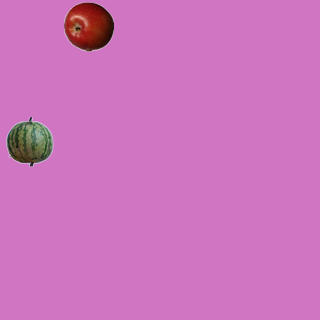Apple Braeburn: (63, 1, 113, 51)
Watermelon: (4, 116, 54, 166)
